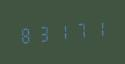eight: (18, 23, 35, 46)
one: (54, 20, 71, 43), (90, 17, 107, 40)
seven: (72, 19, 89, 41)
three: (36, 22, 53, 44)
